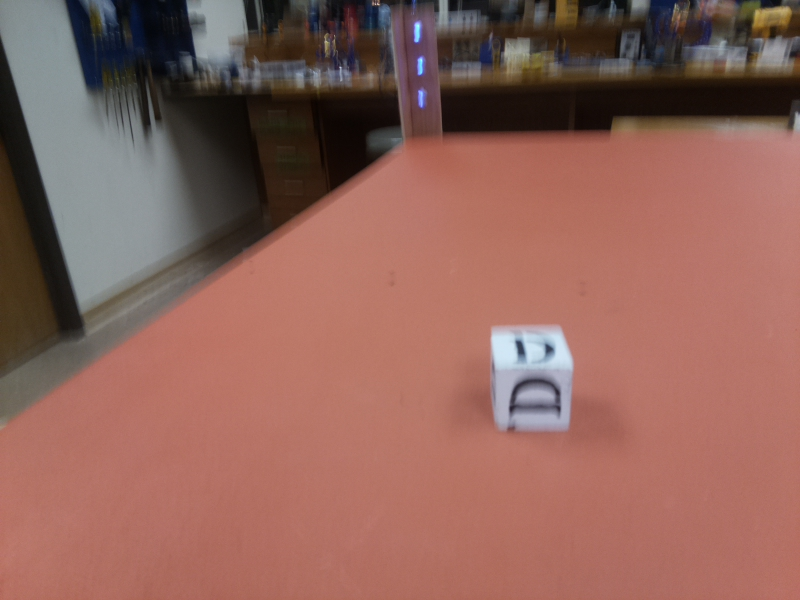blockD: (489, 322, 575, 433)
corner: (387, 10, 451, 141)
